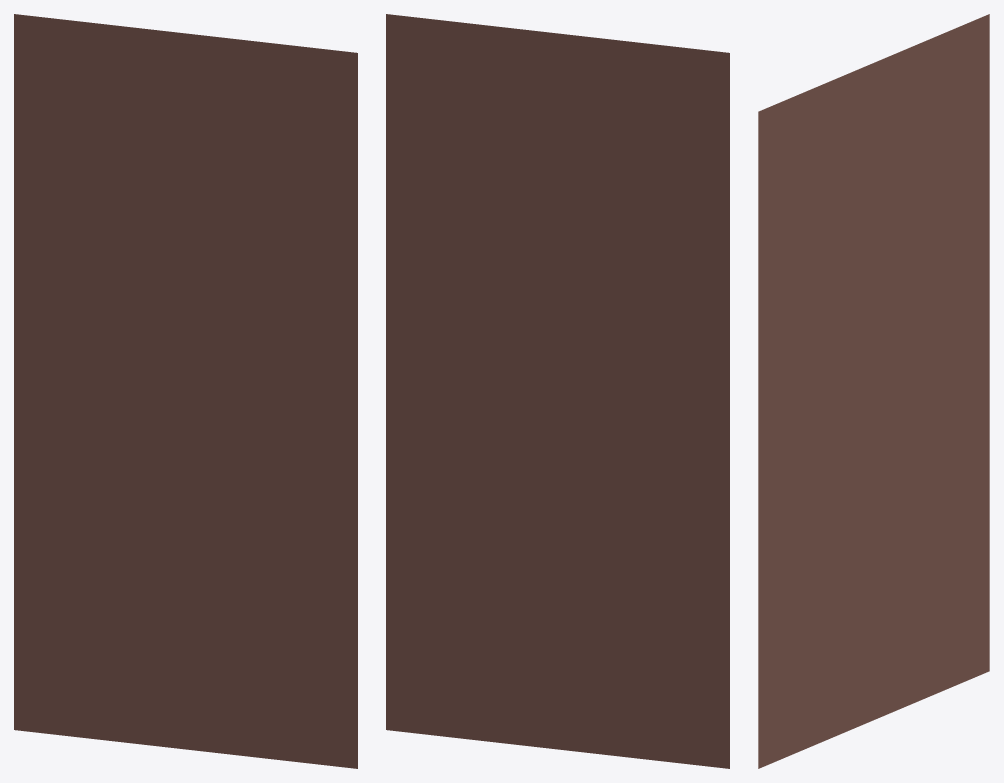
Rendered from Door.glb.
3 views of the same model, side by side, from view 1: azimuth 30°, elevation 25°; view 2: azimuth 210°, elevation 25°; view 3: azimuth 270°, elevation 25° (orthographic). The views are drawn at different scales.
Size of the model in its own units: 0.7071 by 2.22 by 0.7071.
